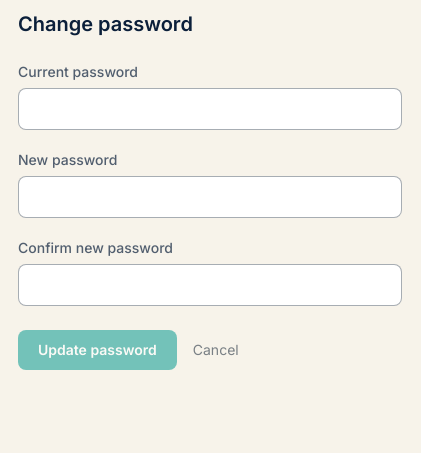
Scenario: ChangePasswordPage › shows error and skips sign-in when supabase resolves to no user (e.g. session expired)
The image size is (421, 453).
Expected: the button "Update password" is disabled, [18,330,177,370]
Submit anyway by bypassing the disabled button via form submit event
Type "oldpass" into the password field labelled "Current password" at (210, 109), box [18,88,402,130]
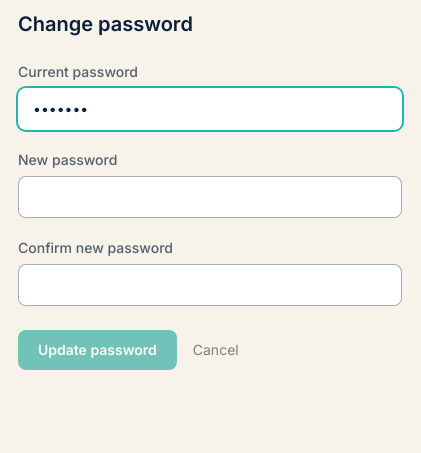
Type "newpass123" into the password field labelled "New password" at (210, 197), box [18,176,402,218]
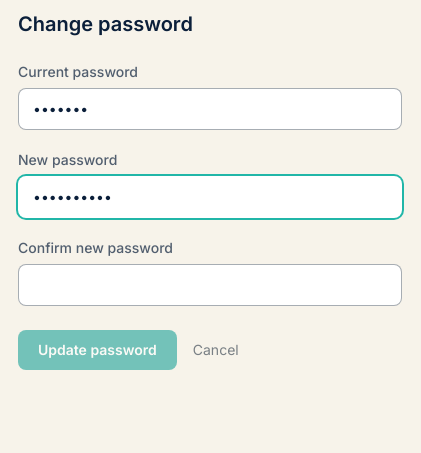
Type "newpass123" into the password field labelled "Confirm new password" at (210, 285), box [18,264,402,306]
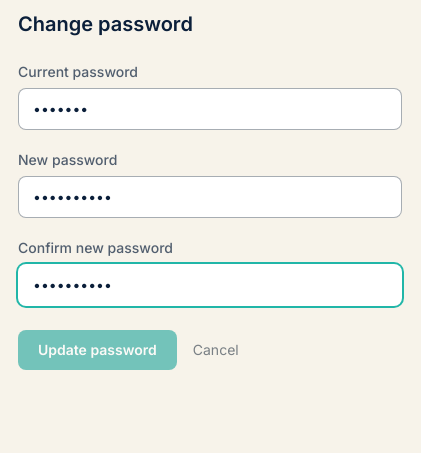
Submit the form "Update password"
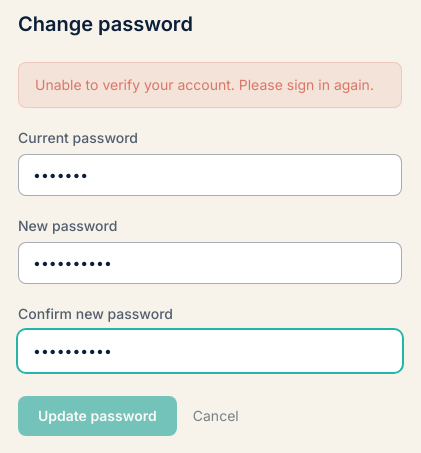
Result: the message reads "Unable to verify your account. Please sign in again." at [35,76,374,93]
